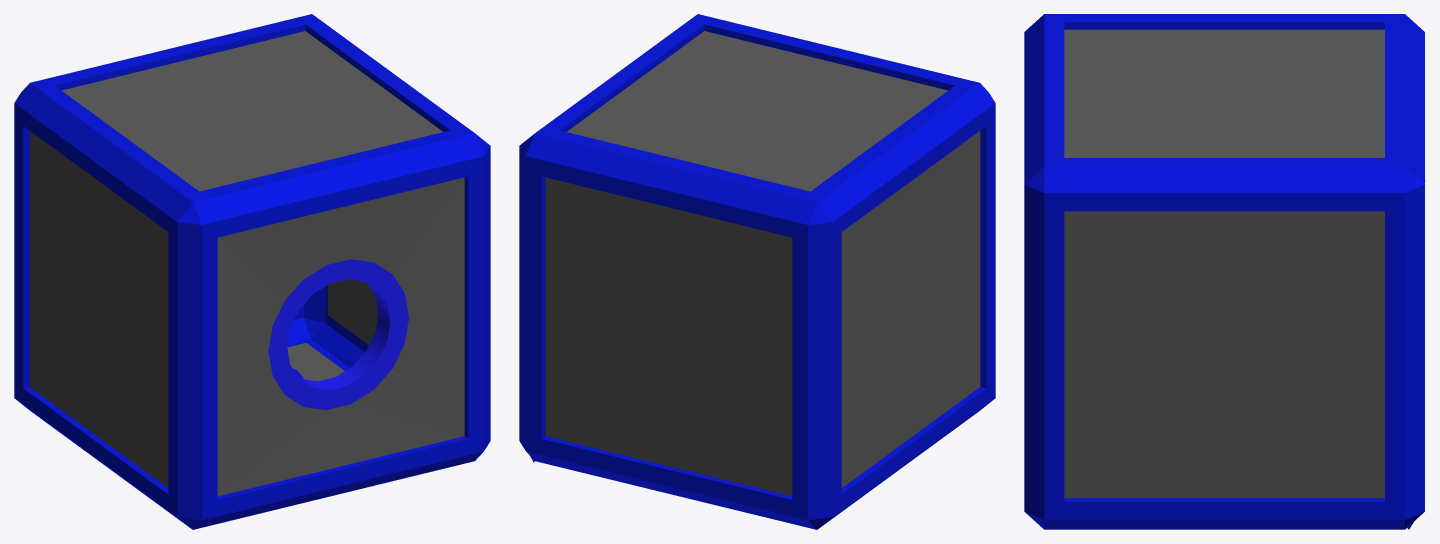
Rendered from LightBox.FBX.
3 views of the same model, side by side, from view 1: azimuth 30°, elevation 25°; view 2: azimuth 150°, elevation 25°; view 3: azimuth 270°, elevation 25° (orthographic). The views are drawn at different scales.
Parts seen in each view (by area): view 1: ChamferBox001; view 2: ChamferBox001; view 3: ChamferBox001.
Part boxes in pixels (bbox=[...]): ChamferBox001: bbox=[14, 14, 490, 529]; ChamferBox001: bbox=[519, 14, 995, 529]; ChamferBox001: bbox=[1024, 14, 1425, 529].
Size of the model in its own units: 1 by 1 by 1.
